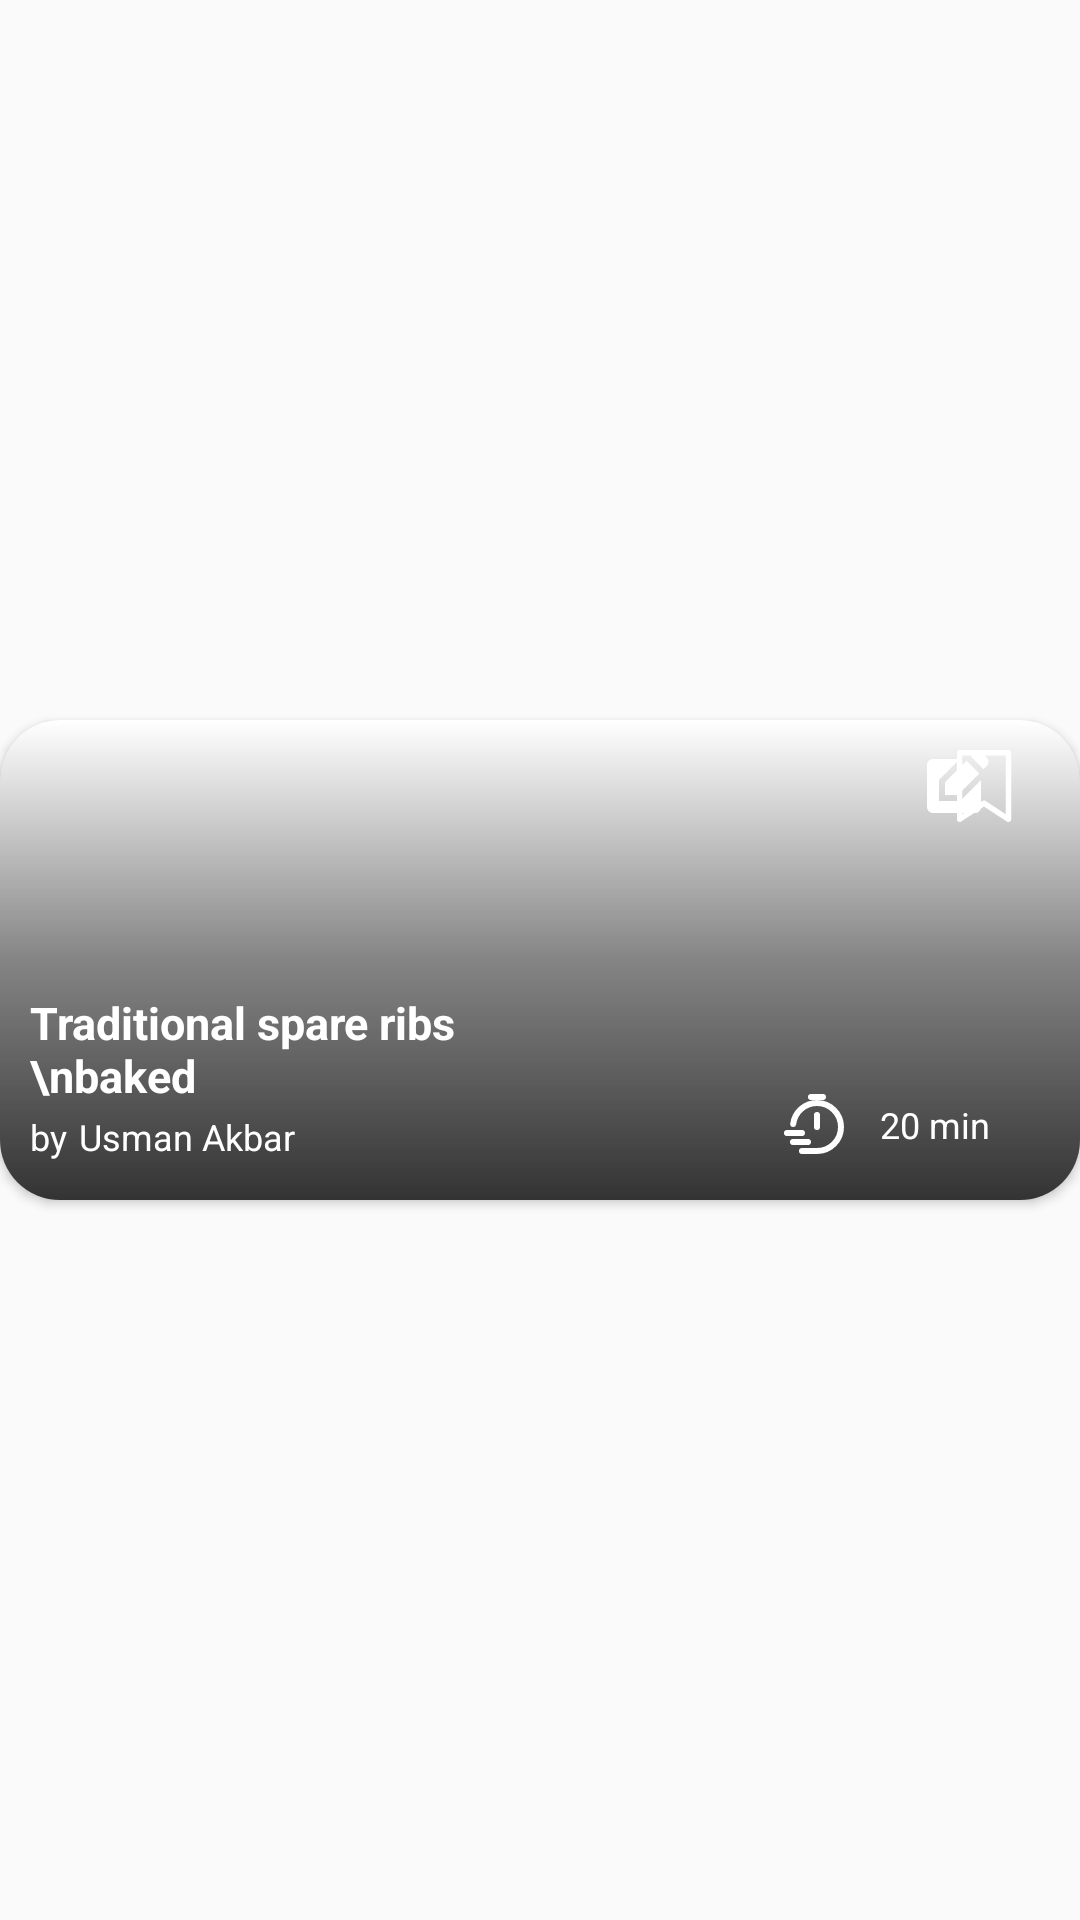

Locate icon controls on the screen. Image size 1080px×1920px, boxes as (x1, y1, x2, y2).
recipe time: (778, 1088, 850, 1154)
